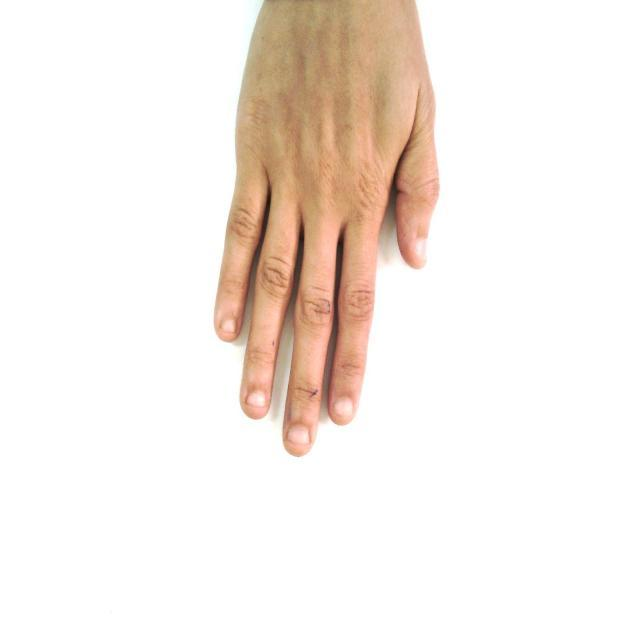Fingernail: (334, 398, 353, 421), (288, 426, 309, 446), (248, 392, 267, 406), (221, 319, 236, 334), (416, 239, 426, 261)
